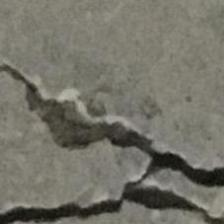Crack: (0, 18, 224, 224)
